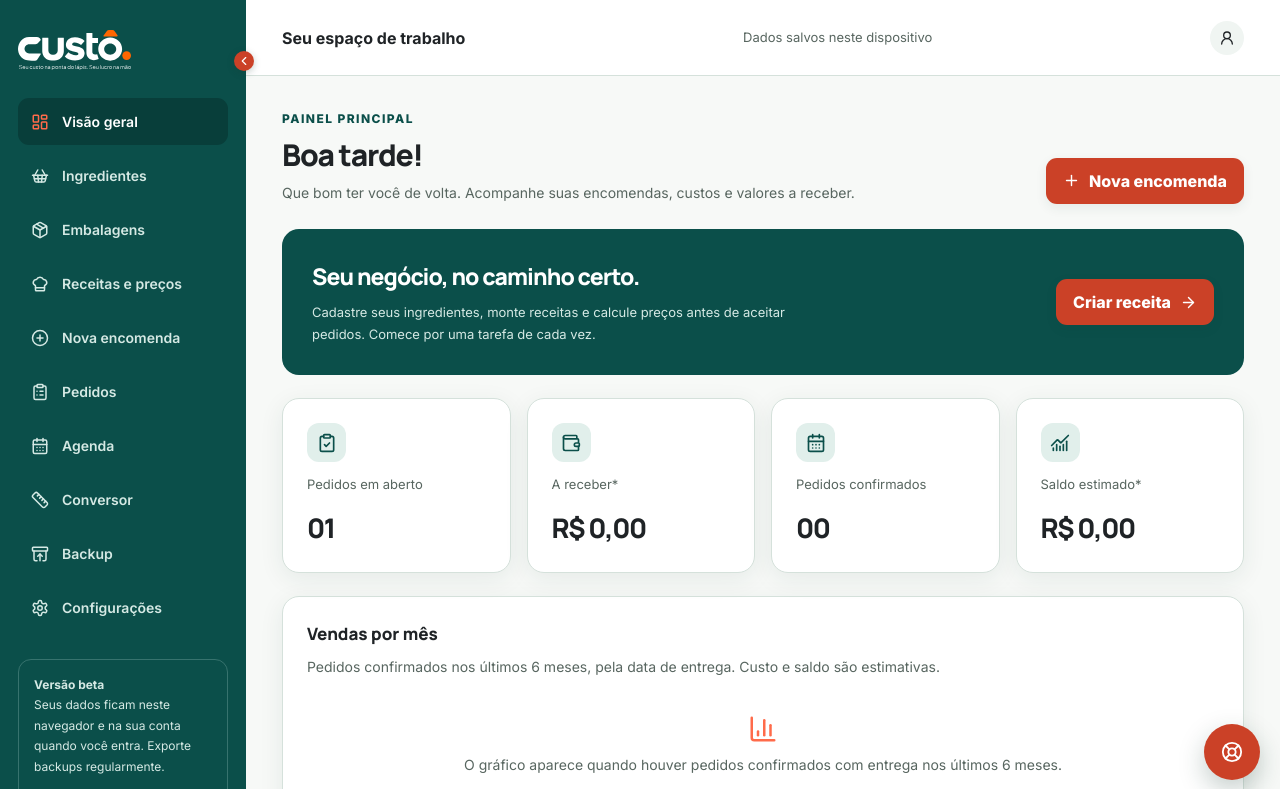
it: Visão geral: primeiros passos › o backup só conta depois de baixado; com tudo feito, o quadro e a boas-vindas somem
The image size is (1280, 789).
Click the button "Backup" at (123, 554), box [18, 530, 228, 577]
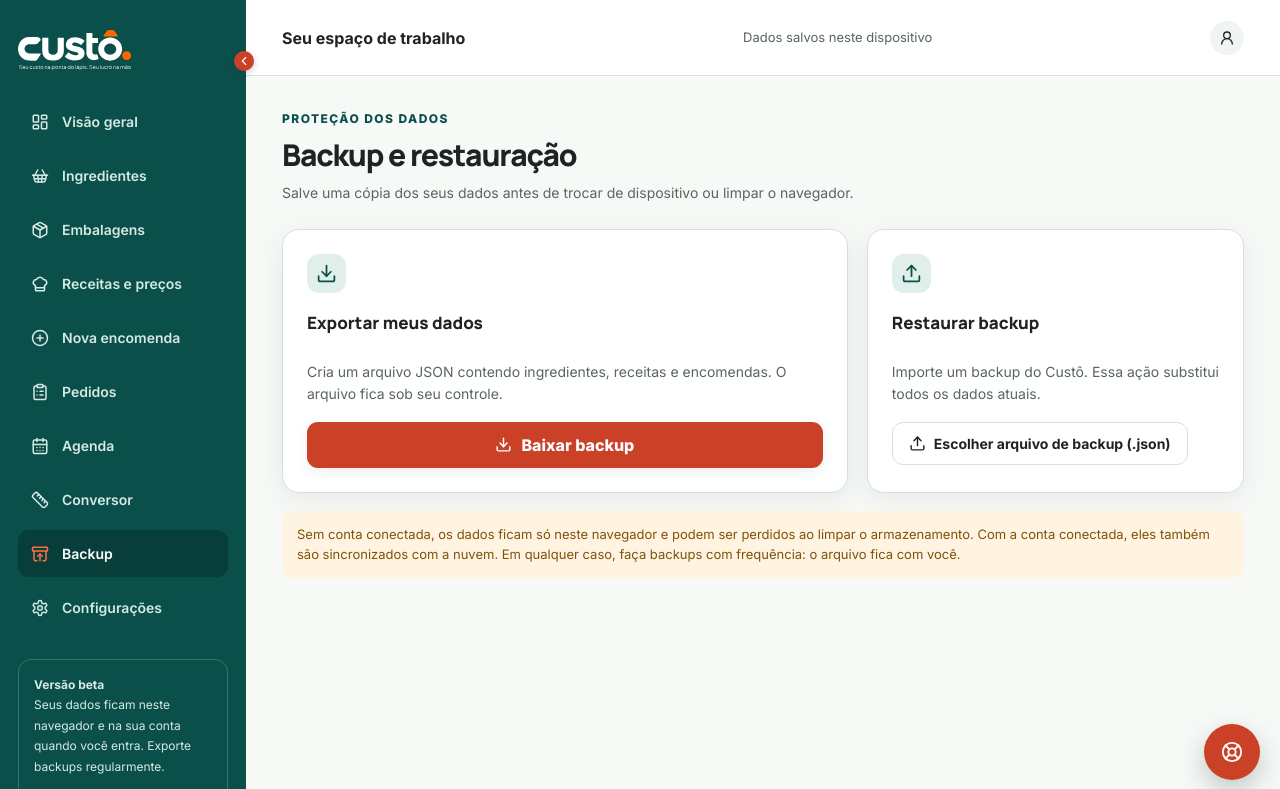
Click the button "Baixar backup" at (565, 445), box [307, 422, 823, 468]
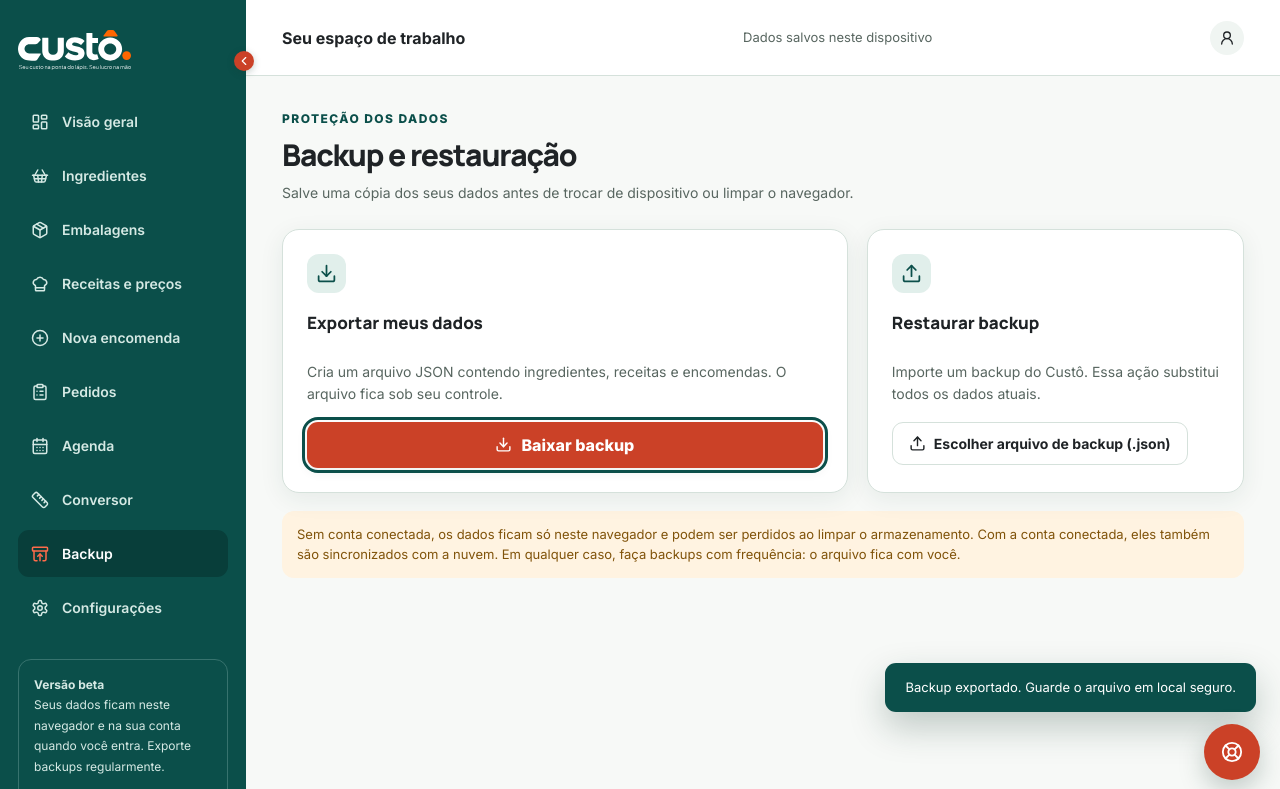
Click the button "Visão geral" at (123, 122), box [18, 98, 228, 145]
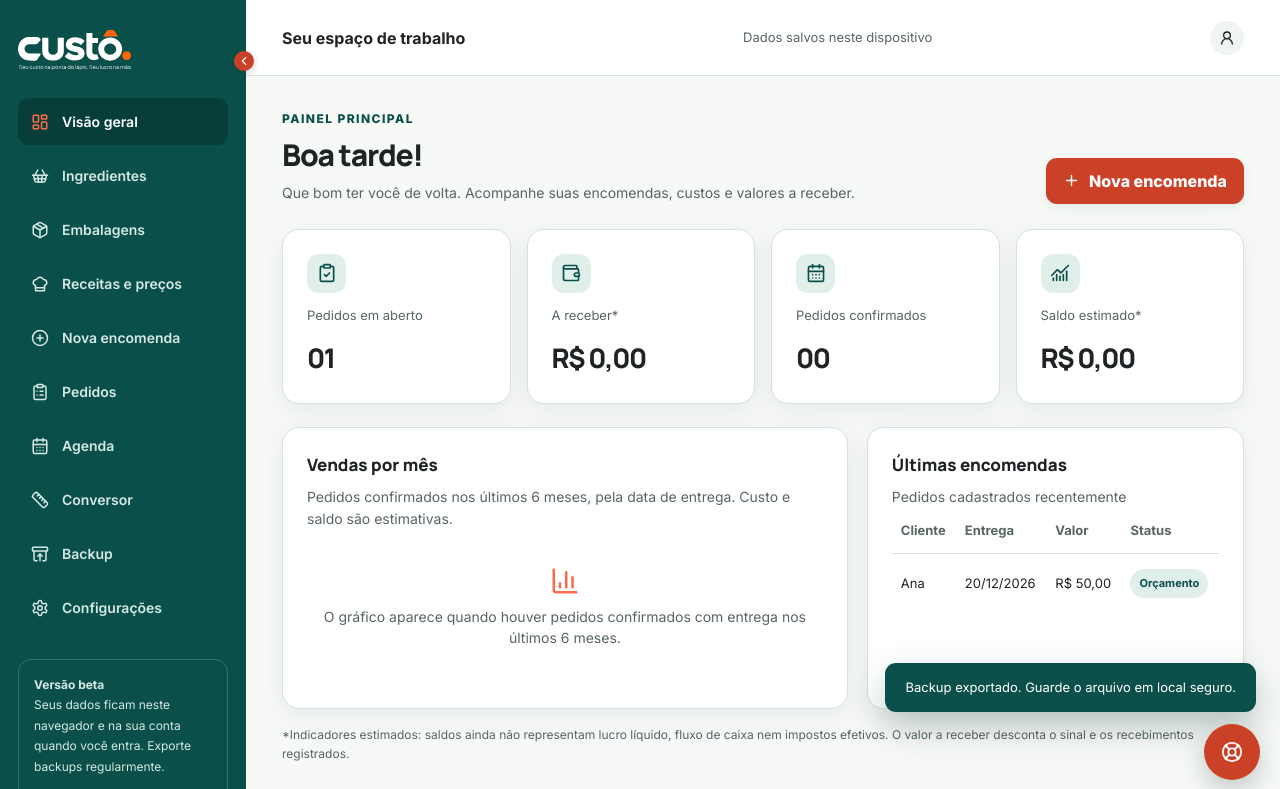
Check: the heading "Últimas encomendas" is shown, box [892, 453, 1067, 476]
Check: the heading "Vendas por mês" is shown, box [307, 453, 438, 476]
Check: the text "O gráfico aparece quando houver pedidos confirmados" is shown, box [324, 608, 806, 646]
